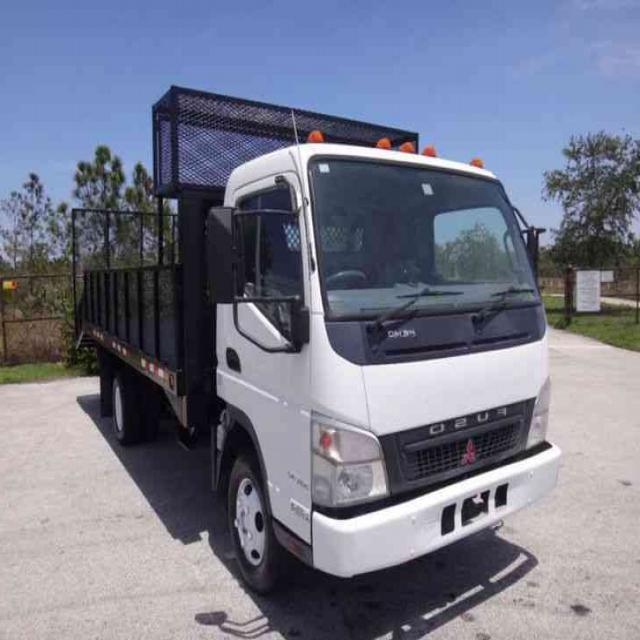truck: (80, 82, 564, 585)
